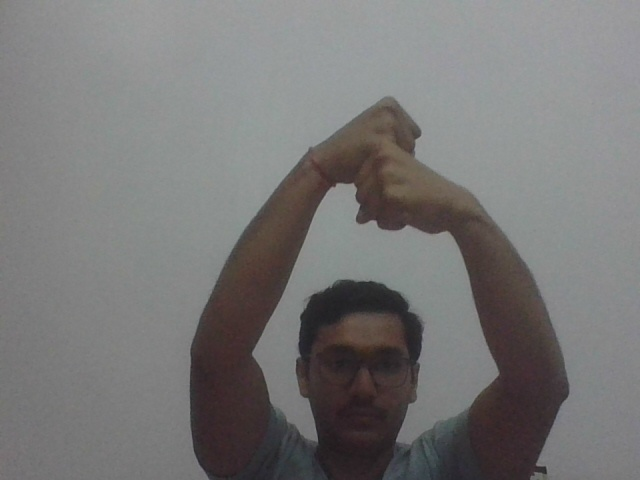G: (317, 90, 455, 236)
